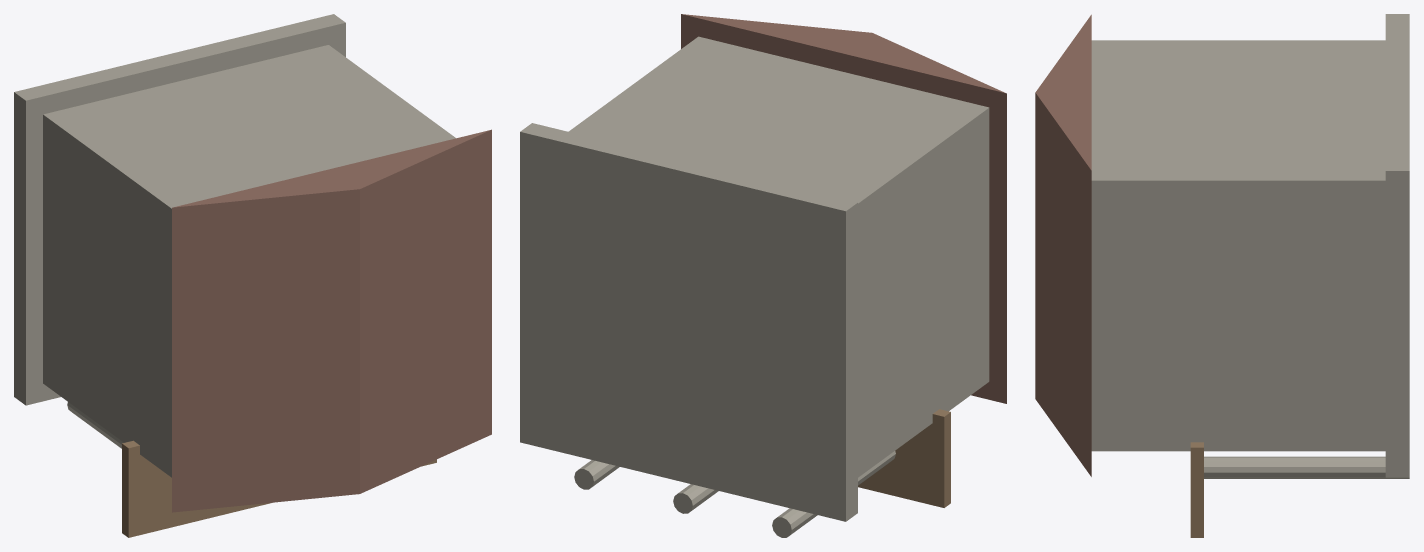
File: AGE_III_commercial.glb
3 views of the same model, side by side, from view 1: azimuth 30°, elevation 25°; view 2: azimuth 150°, elevation 25°; view 3: azimuth 270°, elevation 25° (orthographic).
Parts seen in each view (by area): view 1: world; view 2: world; view 3: world.
Boxes of the visible parts, x1,y1,x2,y2 form: world: [14, 14, 491, 537]; world: [520, 14, 1006, 537]; world: [1035, 14, 1409, 537].
Bounding box in the file's own units: 5.6 × 6.15 × 5.64.
